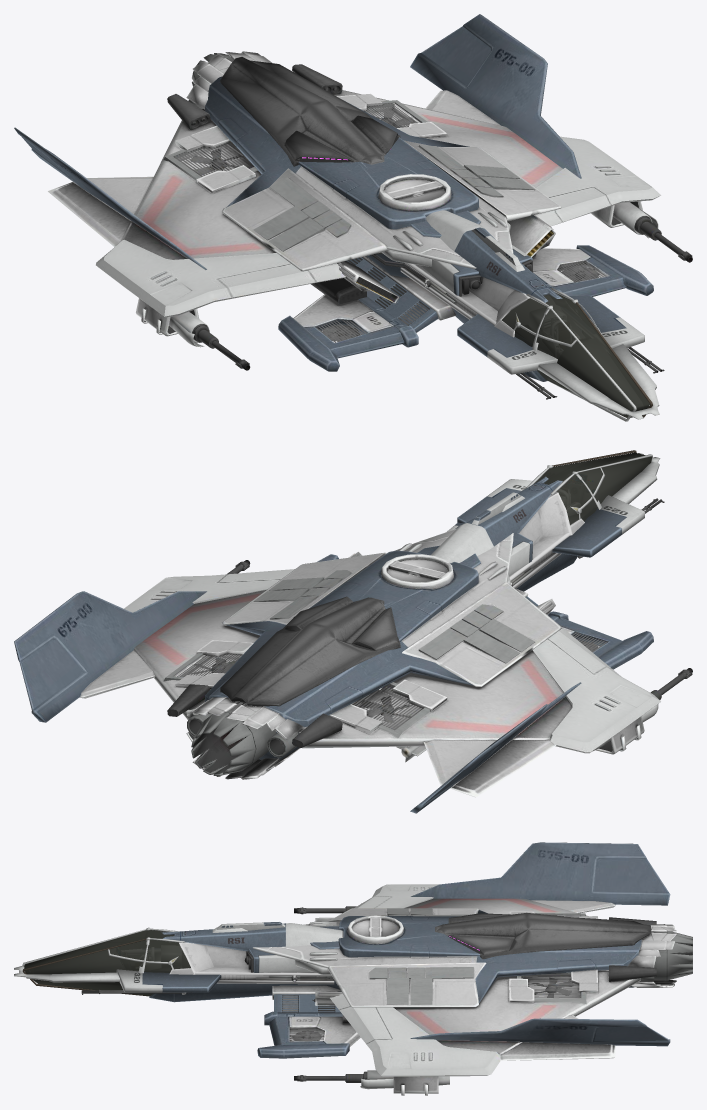
Rendered from northstar.glb.
3 renders of one model, top to bottom at view 1: azimuth 30°, elevation 25°; view 2: azimuth 150°, elevation 25°; view 3: azimuth 270°, elevation 25°, orthographic. The views are drawn at different scales.
Visible parts, largest first — view 1: Northstar_L (×4); view 2: Northstar_L (×4); view 3: Northstar_L (×4).
Boxes of the visible parts, left/top/right/bottom form: Northstar_L (×4): left=14, top=14, right=692, bottom=421; Northstar_L (×4): left=14, top=450, right=692, bottom=813; Northstar_L (×4): left=14, top=842, right=692, bottom=1095.
Size of the model in its own units: 3.33 by 0.7336 by 5.08.
4 materials, 4 textured.
